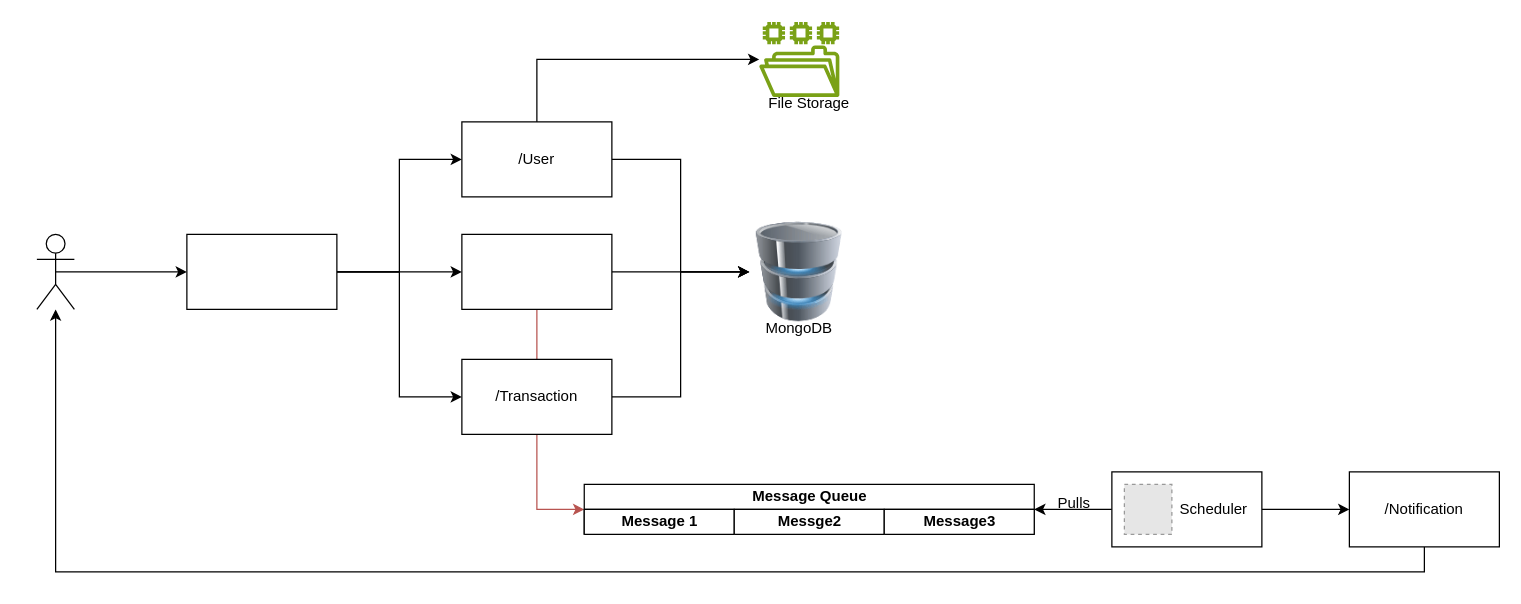
This 1521x604 diagram has some shape labels left out. Grey dashed boxes stand in for pictures. The shapes that lost their labels are listed below. From the top down, each one's centre as x and y in pixels, then its label:
the point at 55,271: Requestor
the point at 261,271: API Gateway and Load Balancer
the point at 536,271: /Expense
